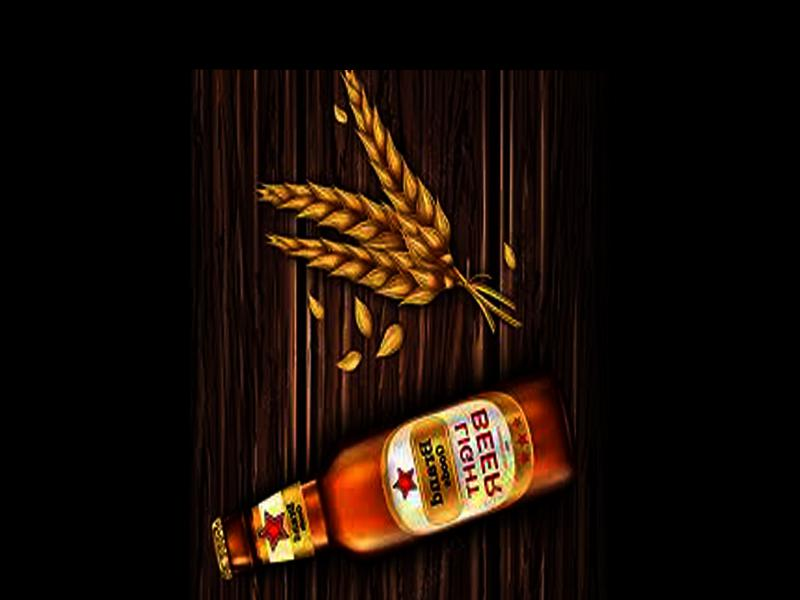Beer: (210, 371, 574, 583)
